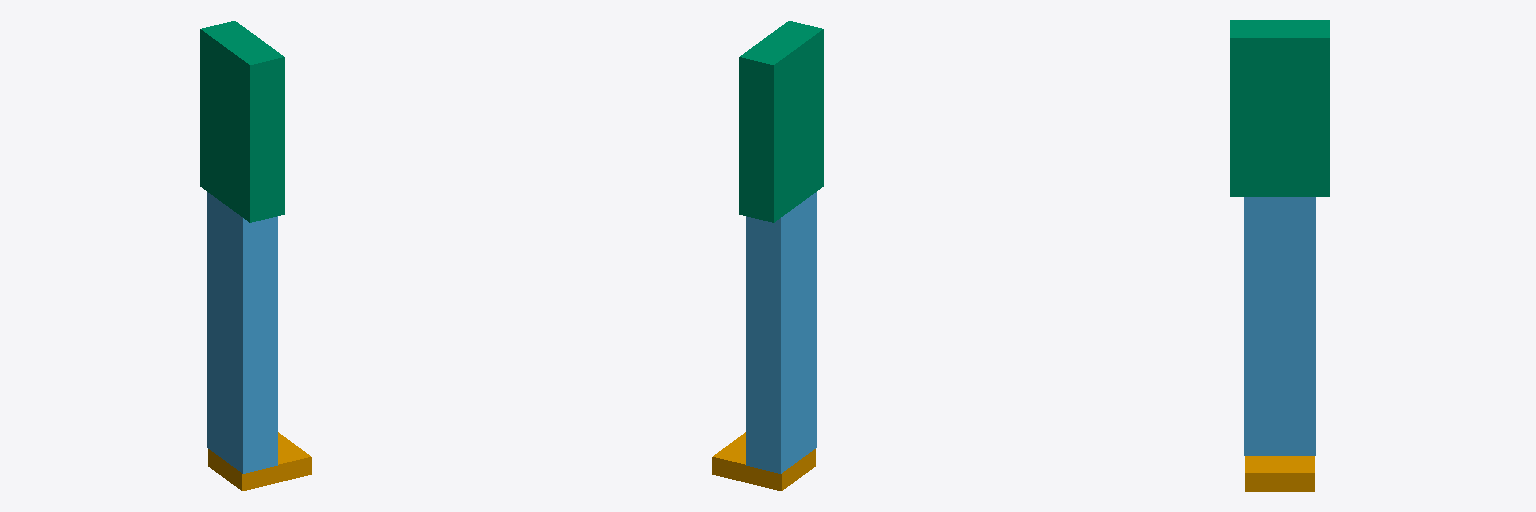
The robot description file, URDF, robot "threeLinkHuman_subject5":
<robot name="threeLinkHuman_subject5">
    <link name="foot">
        <inertial>
            <mass value="4.2628"/>
            <origin xyz="0 0 0.0294" rpy="0 0 0" />
            <inertia ixx="0.015808" iyy="0.021076" izz="0.034427" ixy="0" ixz="0" iyz="0"/>
        </inertial>

        <visual>
			<origin xyz="0 0 0.0294" rpy="0 0 0" />
            <geometry>
                <box size="0.23637 0.20259 0.0588"/>
            </geometry>
        </visual>

        <collision>
			<origin xyz="0 0 0.0294" rpy="0 0 0" />
            <geometry>
                <box size="0.23637 0.20259 0.0588"/>
            </geometry>
        </collision>
    </link>
    
    <link name="leg">
        <inertial>
            <mass value="31.6842"/>
            <origin xyz="0 0 0.41786" rpy="0 0 0" />
            <inertia ixx="1.9626" iyy="1.881" izz="0.15542" ixy="0" ixz="0" iyz="0"/>
        </inertial>

        <visual>
            <origin xyz="0 0 0.41786" rpy="0 0 0" />
            <geometry>
                <box size="0.11819 0.21189 0.83572"/>
            </geometry>
        </visual>

        <collision>
            <origin xyz="0 0 0.41786" rpy="0 0 0" />
            <geometry>
                <box size="0.11819 0.21189 0.83572"/>
            </geometry>
        </collision>
    </link>
    
    <link name="torso">
        <inertial>
            <mass value="27.1044"/>
            <origin xyz="0 0 0.25719" rpy="0 0 0" />
            <inertia ixx="0.79352" iyy="0.62918" izz="0.22744" ixy="0" ixz="0" iyz="0"/>
        </inertial>

        <visual>
            <origin xyz="0 0 0.25719" rpy="0 0 0" />
            <geometry>
                <box size="0.11819 0.29449 0.51438"/>
            </geometry>
        </visual>

        <collision>
            <origin xyz="0 0 0.25719" rpy="0 0 0" />
            <geometry>
                <box size="0.11819 0.29449 0.51438"/>
            </geometry>
        </collision>
    </link>
        
    <joint name="ankle" type="revolute">
        <origin xyz="-0.059093 0 0.0588" rpy="0 0 0"/>
        <parent link="foot"/>
        <child link="leg"/>
        <dynamics damping="0.1" friction="0.0"/>
        <limit effort="30" velocity="1.0" lower="-10.0" upper="10.0" />
        <axis xyz="0 1 0" />
    </joint>
    
    <joint name="hip" type="revolute">
        <origin xyz="0 0 0.83572" rpy="0 0 0"/>
        <parent link="leg"/>
        <child link="torso"/>
        <dynamics damping="0.1" friction="0.0"/>
        <limit effort="30" velocity="1.0" lower="-10.0" upper="10.0" />
        <axis xyz="0 1 0" />
    </joint>

</robot>

--- What the picture shows (computed from the rendered views, not written in the file) ---
Views: 3 orthographic renders of the robot side by side, from view 1: azimuth 30°, elevation 25°; view 2: azimuth 150°, elevation 25°; view 3: azimuth 270°, elevation 25°.
Robot: threeLinkHuman_subject5 — 3 links, 2 joints (2 revolute); root link foot; default pose: every joint at zero.
Visible links, largest first — view 1: leg, torso, foot; view 2: leg, torso, foot; view 3: leg, torso, foot.
Link boxes in pixels (bbox=[...]): leg: bbox=[207, 192, 277, 473]; torso: bbox=[200, 21, 284, 222]; foot: bbox=[208, 432, 311, 490]; leg: bbox=[746, 192, 816, 473]; torso: bbox=[739, 21, 823, 222]; foot: bbox=[712, 432, 815, 490]; leg: bbox=[1244, 197, 1315, 455]; torso: bbox=[1230, 20, 1329, 196]; foot: bbox=[1245, 456, 1314, 491].
Bounding box of the posed robot: 0.2364 × 0.2945 × 1.41 m (x, y, z).
Geometry: primitives only (box / cylinder / sphere), no mesh files.
